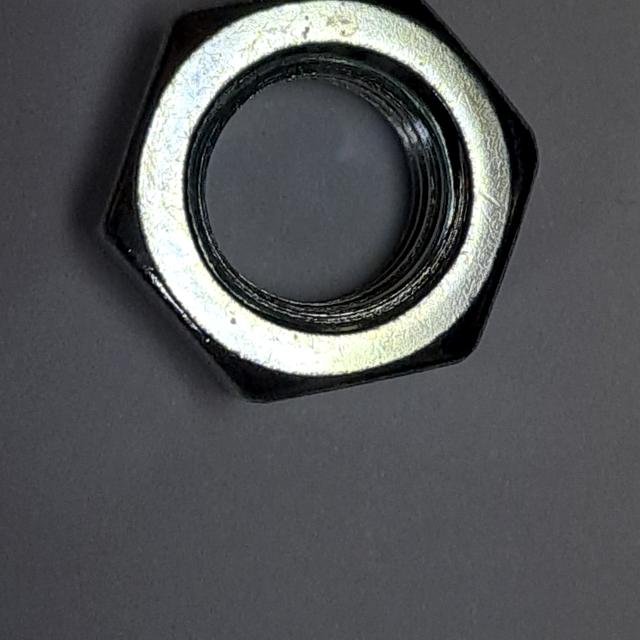Excellent: (62, 1, 553, 421)
